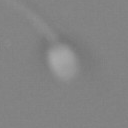normal: (2, 1, 60, 41)
